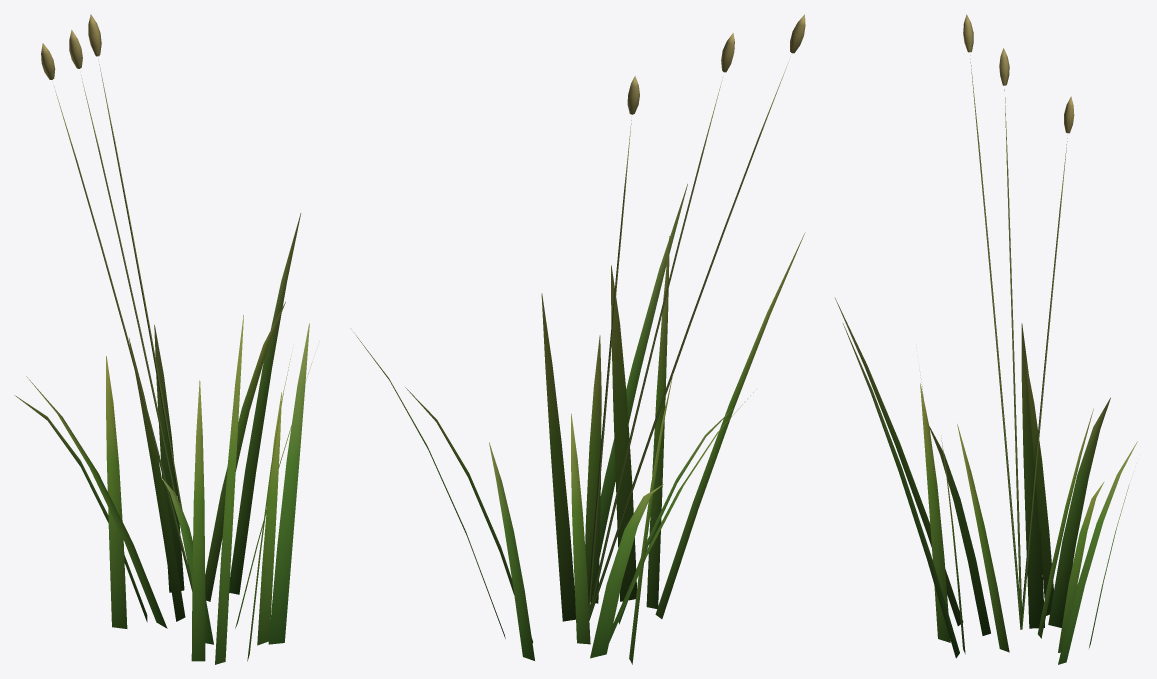
The model's file is grass-tall.glb.
3 views of the same model, side by side, from view 1: azimuth 30°, elevation 25°; view 2: azimuth 150°, elevation 25°; view 3: azimuth 270°, elevation 25° (orthographic). The views are drawn at different scales.
Visible parts, largest first — view 1: Grass_Tall; view 2: Grass_Tall; view 3: Grass_Tall.
Part boxes in pixels (box(x1,y1,x2,y2)): Grass_Tall: box(14, 14, 312, 664); Grass_Tall: box(350, 14, 805, 664); Grass_Tall: box(834, 14, 1137, 664).
Bounding box in the file's own units: 0.6346 × 1.1 × 0.5578.
